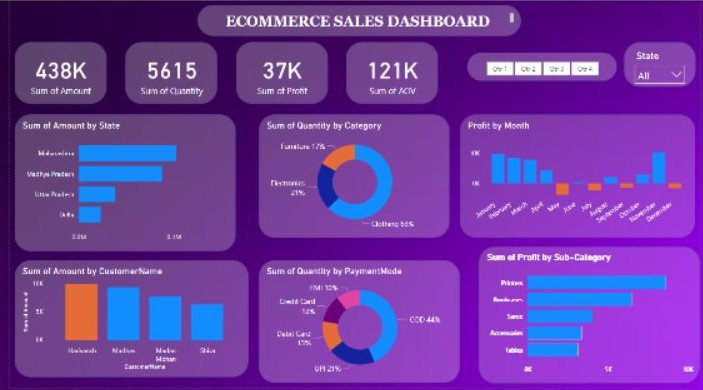

What the dashboard file says about the page in this screenshot:
{"tool":"powerbi","page":{"name":"Page 1","canvas":[1280,720],"ordinal":0},"visuals":[{"type":"textbox","box":[348.5,9.6,599.4,57.9],"z":0},{"type":"columnChart","title":"Profit by Month","fields":{"Category":["Orders.Order Date.Variation.Date Hierarchy.Month"],"Y":["Details.Profit"]},"box":[835,212.5,436,229],"z":1000},{"type":"barChart","fields":{"Category":["Details.Sub-Category"],"Y":["Details.Profit"]},"box":[870.6,456.6,409.9,253.6],"z":2000},{"type":"donutChart","fields":{"Category":["Details.Category"],"Y":["Details.Quantity"]},"box":[462,212.5,353.7,229],"z":3000},{"type":"donutChart","fields":{"Category":["Details.PaymentMode","Details.Category"],"Y":["Details.Quantity"]},"box":[462,482.6,372.9,227.6],"z":4000},{"type":"card","fields":{"Values":["Details.Amount"]},"box":[9.6,78.4,170.1,114.6],"z":5000},{"type":"card","fields":{"Values":["Details.Quantity"]},"box":[214.7,78.4,170.1,114.6],"z":6000},{"type":"card","fields":{"Values":["Details.Profit"]},"box":[419.7,78.4,170.1,114.6],"z":7000},{"type":"card","fields":{"Values":["Details.AOV"]},"box":[623.5,78.4,170.1,114.6],"z":8000},{"type":"barChart","fields":{"Category":["Details.Sub-Category"],"Y":["Details.Profit"]},"box":[870.1,456.6,409.9,253.6],"z":9000},{"type":"barChart","fields":{"Category":["Orders.State"],"Y":["Details.Amount"]},"box":[9.6,212.5,409.9,253.6],"z":10000},{"type":"columnChart","fields":{"Category":["Orders.CustomerName"],"Y":["Details.Amount"]},"box":[9.6,482.6,433.3,216.6],"z":11000},{"type":"slicer","fields":{"Values":["Orders.Order Date.Variation.Date Hierarchy.Quarter"]},"box":[847.8,97.7,277.4,53.1],"z":12000},{"type":"slicer","fields":{"Values":["Orders.State"]},"box":[1138.5,78.4,132.7,83.2],"z":13000}]}

Visuals, with their boxes in screenshot pixels (x1, y1, x2, y2), scaled from the page's 1280x720 canvas onto the 703x390 screenshot:
textbox: 191/5/521/37
"Profit by Month" columnChart: 459/115/698/239
barChart - Details.Sub-Category x Details.Profit: 478/247/702/385
donutChart - Details.Category x Details.Quantity: 254/115/448/239
donutChart - Details.PaymentMode x Details.Category: 254/261/459/385
card - Details.Amount: 5/42/99/105
card - Details.Quantity: 118/42/211/105
card - Details.Profit: 231/42/324/105
card - Details.AOV: 342/42/436/105
barChart - Details.Sub-Category x Details.Profit: 478/247/702/385
barChart - Orders.State x Details.Amount: 5/115/230/252
columnChart - Orders.CustomerName x Details.Amount: 5/261/243/379
slicer - Orders.Order Date.Variation.Date Hierarchy.Quarter: 466/53/618/82
slicer - Orders.State: 625/42/698/88
